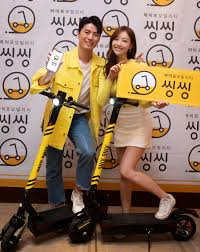kick_wheel: (71, 216, 94, 244), (174, 216, 196, 240)
